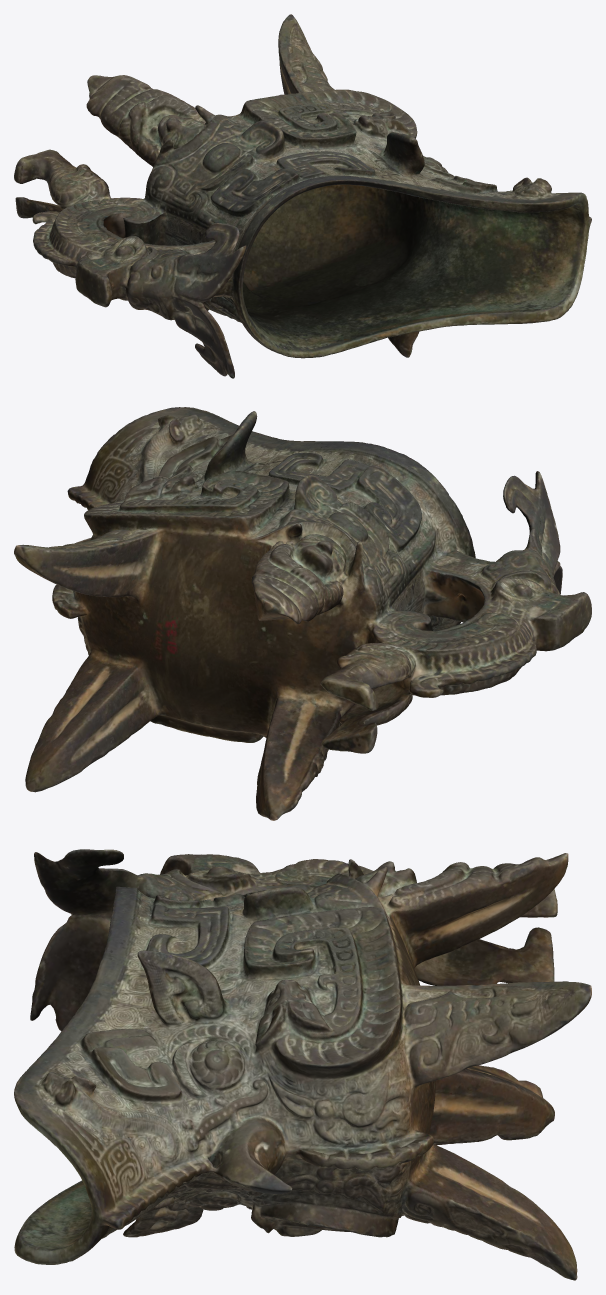
The model's file is f1961_33-part_02-x_pol-ort_texture-200k-2048-web.glb.
3 views of the same model, one above another, from view 1: azimuth 30°, elevation 25°; view 2: azimuth 150°, elevation 25°; view 3: azimuth 270°, elevation 25° (orthographic). The views are drawn at different scales.
Size of the model in its own units: 0.2865 by 0.1285 by 0.2198.
1 material, 1 textured.
